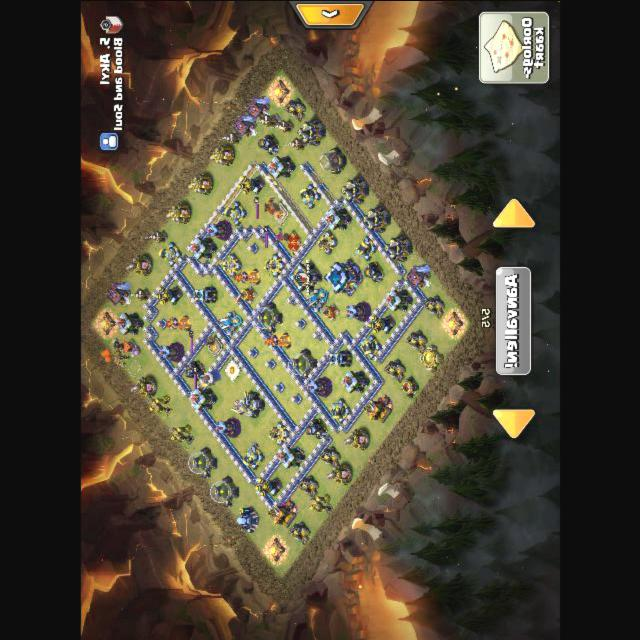AD: (254, 475, 283, 495), (236, 174, 264, 194), (367, 314, 396, 333), (154, 285, 183, 304)
AirSweeper: (234, 285, 257, 304), (319, 302, 339, 320)
BombTower: (325, 349, 351, 365), (191, 286, 216, 302)
Canon: (158, 240, 181, 266), (223, 199, 246, 225), (328, 397, 350, 423), (354, 234, 376, 260), (359, 333, 381, 359), (241, 443, 263, 469), (298, 183, 320, 208)
ClanCastle: (288, 262, 321, 290)
Eagle: (230, 390, 264, 417)
Inferno: (164, 314, 190, 330), (234, 267, 260, 283), (264, 331, 290, 347)
KingPad: (272, 201, 288, 223)
Mortar: (305, 416, 328, 438), (257, 132, 280, 154), (362, 260, 384, 282), (184, 359, 205, 381)
QueenPad: (285, 231, 302, 254)
RcPad: (207, 337, 221, 356)
Scattershot: (304, 287, 328, 311), (217, 310, 241, 334)
TH13: (322, 260, 362, 292)
WardenPad: (223, 359, 239, 380)
WizzTower: (345, 301, 371, 321), (214, 417, 240, 437), (306, 377, 332, 396), (158, 342, 184, 361), (206, 220, 231, 239)
Xbow: (266, 421, 288, 446), (264, 252, 285, 277), (316, 229, 336, 254), (222, 252, 242, 277)
